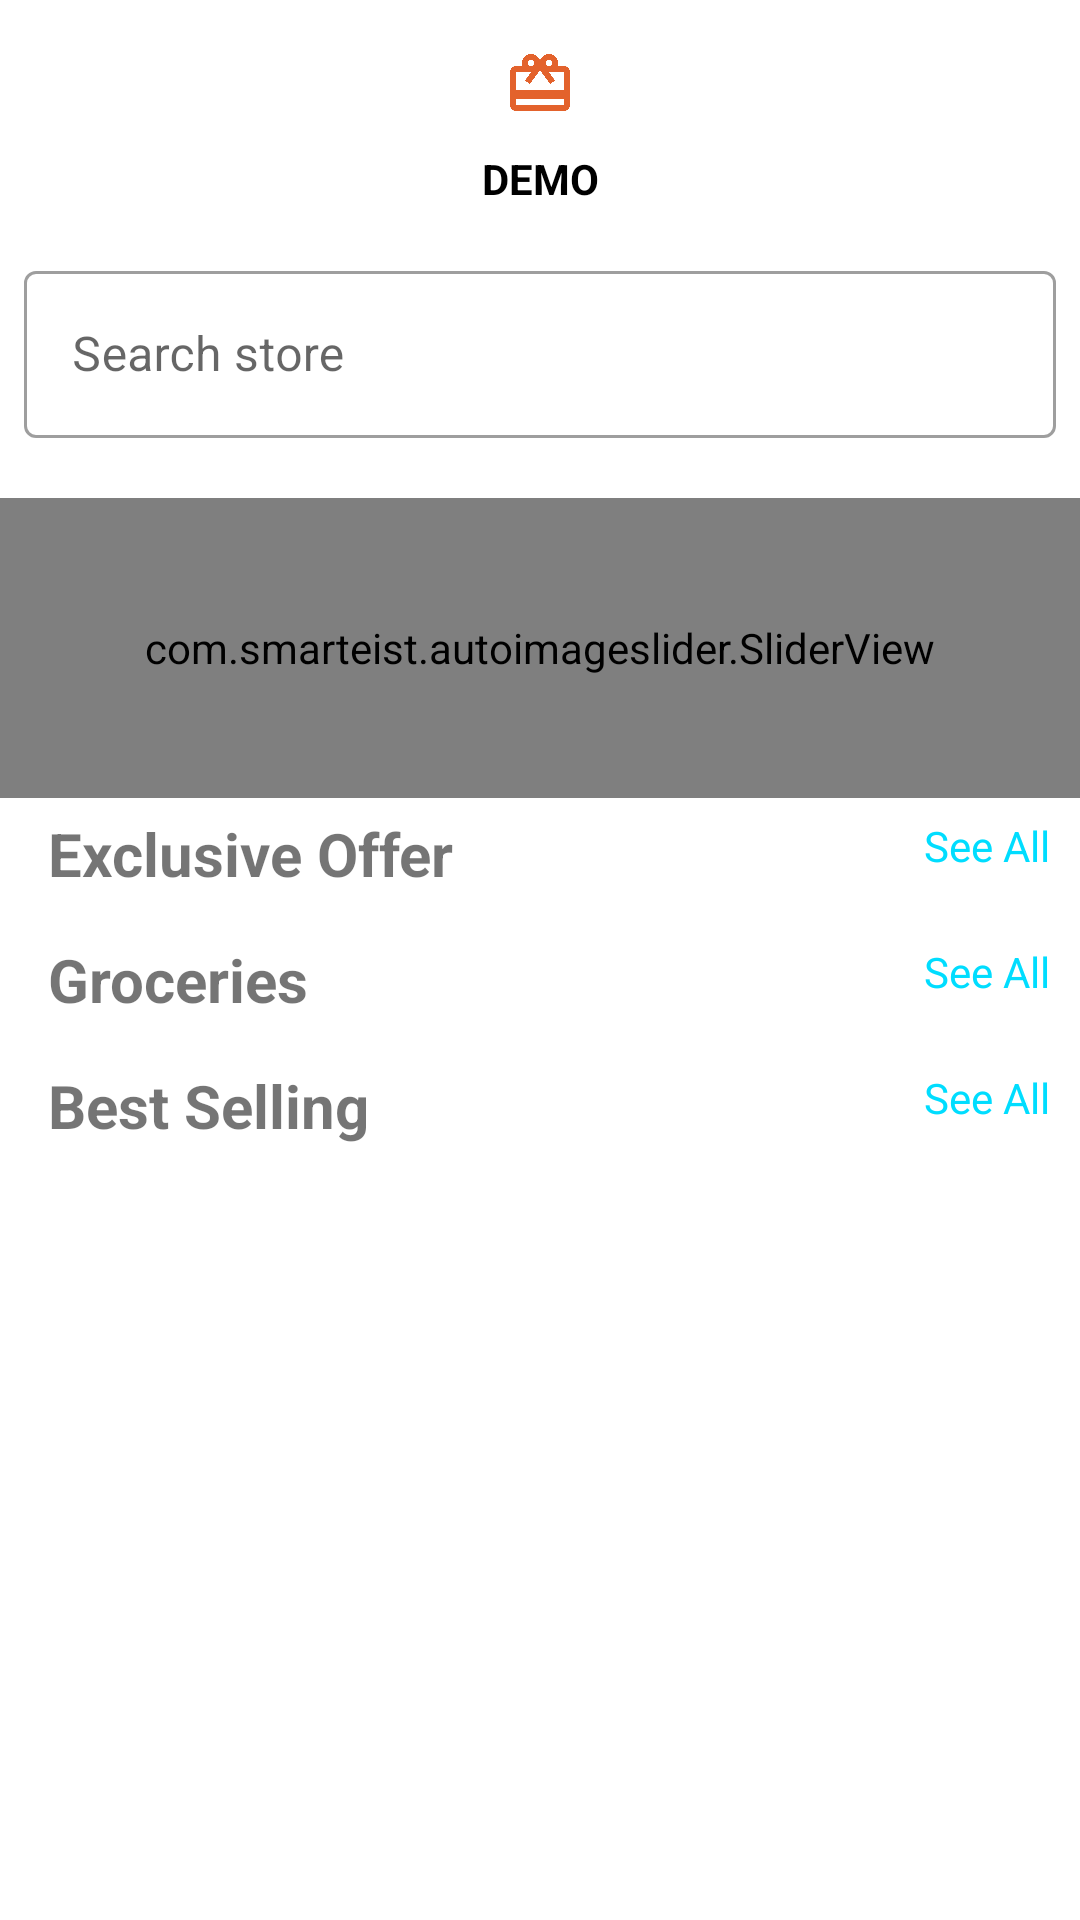

Icon bounding boxes for this 1080×1920 phone screenshot, format {"x1": x1, "y1": y1, "x2": x2, "y2": y2}:
giftcard: {"x1": 510, "y1": 54, "x2": 570, "y2": 111}
